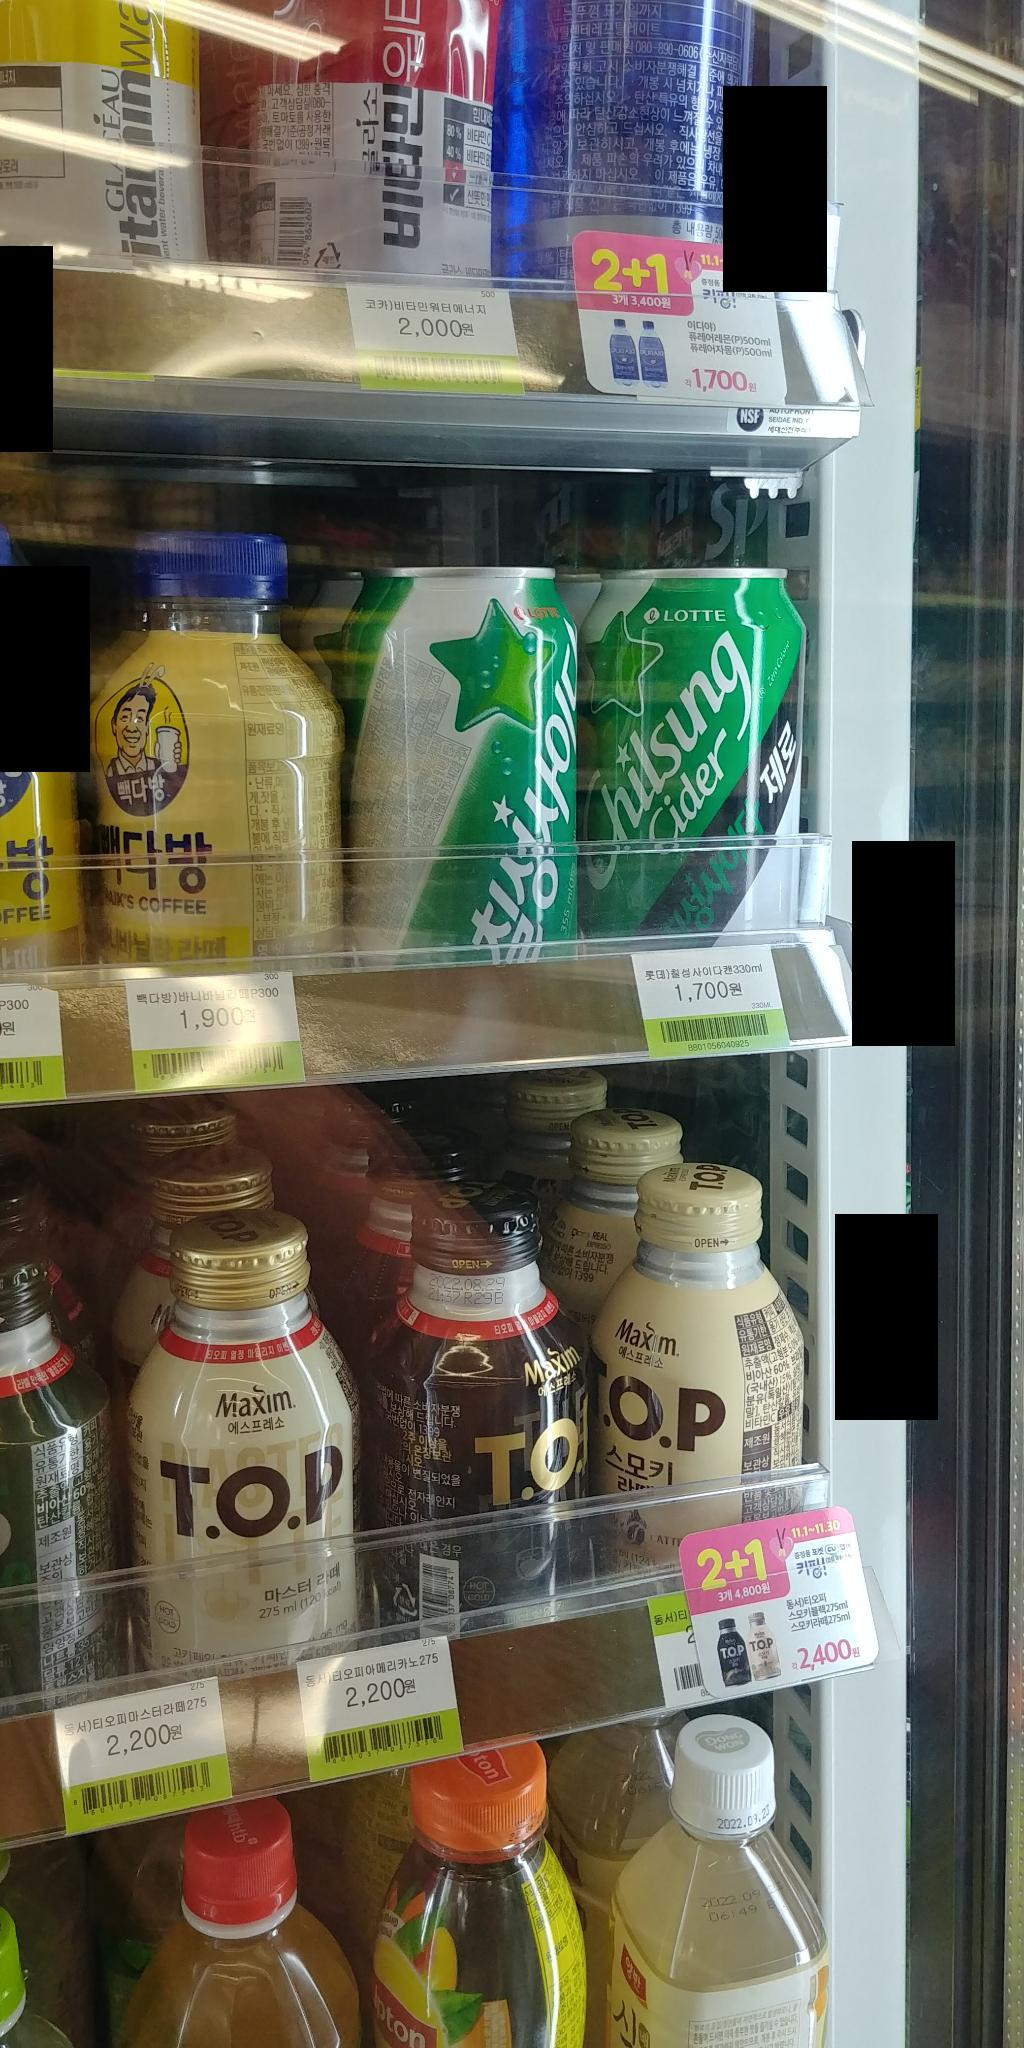TOP_black: (341, 1159, 613, 1629)
chilsungcider: (333, 552, 603, 991)
